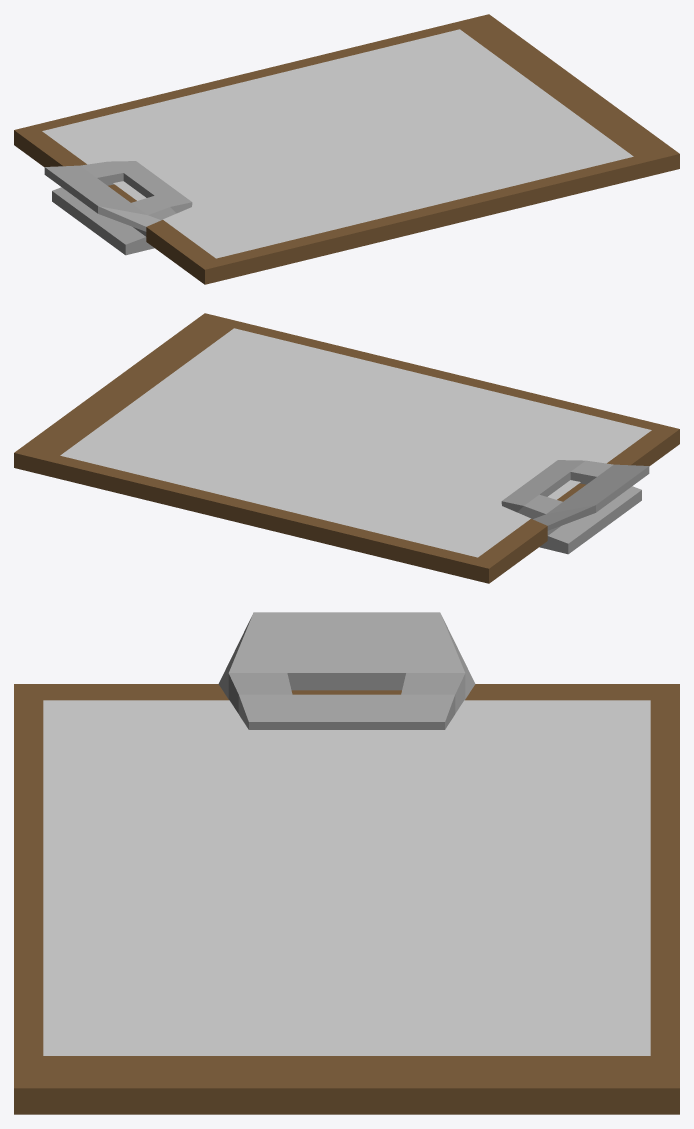
File: clipboard.fbx
3 views of the same model, one above another, from view 1: azimuth 30°, elevation 25°; view 2: azimuth 150°, elevation 25°; view 3: azimuth 270°, elevation 25° (orthographic). The views are drawn at different scales.
Parts seen in each view (by area): view 1: Cube.001, Cube; view 2: Cube.001, Cube; view 3: Cube.001, Cube.
Part boxes in pixels (x1,y1,x2,y2): Cube.001: [42, 29, 633, 258]; Cube: [14, 14, 679, 284]; Cube.001: [60, 328, 651, 557]; Cube: [14, 313, 679, 583]; Cube.001: [43, 700, 650, 1055]; Cube: [14, 612, 679, 1114].
Size of the model in its own units: 781 by 67.03 by 504.
